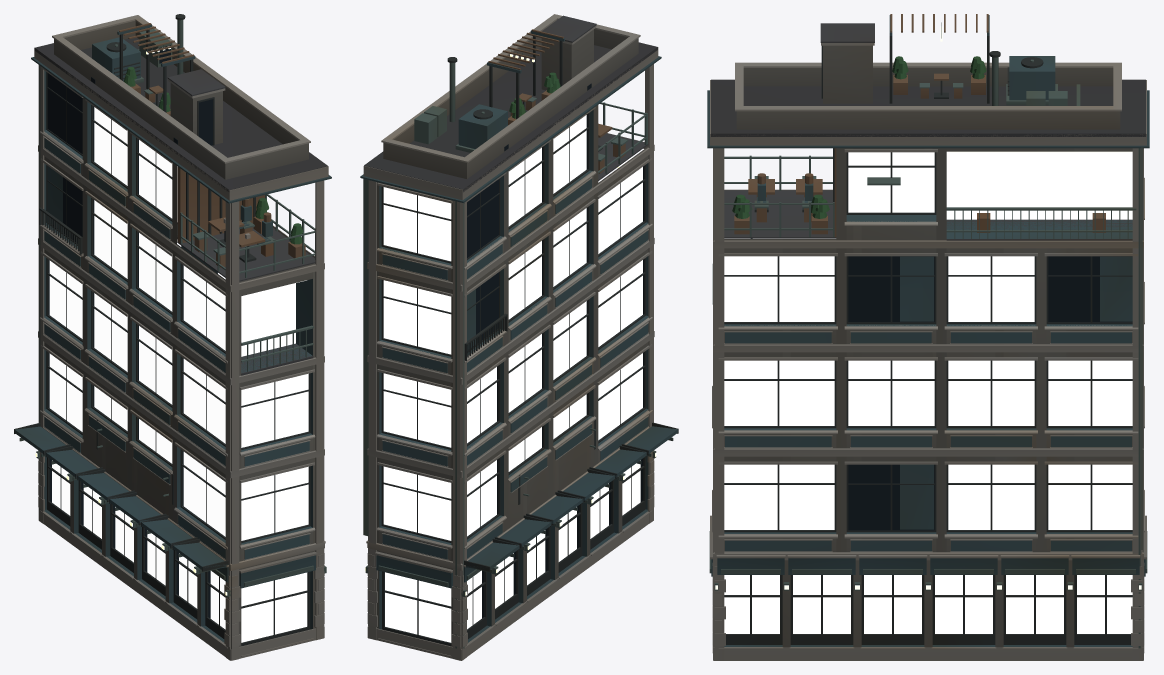
The model's file is tea237.glb.
3 views of the same model, side by side, from view 1: azimuth 30°, elevation 25°; view 2: azimuth 150°, elevation 25°; view 3: azimuth 270°, elevation 25° (orthographic). The views are drawn at different scales.
Visible parts, largest first — view 1: t237-trim, t237-wall2, t237-wall, t237-room1, t237-frame, t237-room2, t237-shop, t237-roof, t237-dark, t237-steel, t237-clay, t237-leaf; view 2: t237-trim, t237-wall2, t237-room2, t237-wall, t237-frame, t237-room1, t237-roof, t237-shop, t237-steel, t237-dark, t237-clay; view 3: t237-trim, t237-room2, t237-wall, t237-wall2, t237-shop, t237-frame, t237-roof, t237-room0, t237-dark, t237-steel, t237-room1, t237-clay (+1 smaller).
Boxes of the visible parts, x1=… form: t237-trim: x1=34, y1=15, x2=328, y2=660; t237-wall2: x1=14, y1=24, x2=331, y2=642; t237-wall: x1=44, y1=20, x2=315, y2=646; t237-room1: x1=94, y1=107, x2=308, y2=540; t237-frame: x1=14, y1=14, x2=310, y2=646; t237-room2: x1=49, y1=140, x2=225, y2=536; t237-shop: x1=52, y1=283, x2=307, y2=642; t237-roof: x1=34, y1=37, x2=327, y2=375; t237-dark: x1=47, y1=45, x2=224, y2=618; t237-steel: x1=19, y1=20, x2=326, y2=597; t237-clay: x1=119, y1=23, x2=305, y2=267; t237-leaf: x1=123, y1=67, x2=303, y2=244; t237-trim: x1=363, y1=14, x2=658, y2=660; t237-wall2: x1=360, y1=30, x2=678, y2=642; t237-room2: x1=383, y1=115, x2=642, y2=540; t237-wall: x1=377, y1=23, x2=648, y2=646; t237-frame: x1=381, y1=36, x2=678, y2=646; t237-room1: x1=383, y1=147, x2=642, y2=471; t237-roof: x1=364, y1=15, x2=657, y2=192; t237-shop: x1=385, y1=460, x2=640, y2=642; t237-steel: x1=363, y1=50, x2=673, y2=648; t237-dark: x1=467, y1=83, x2=643, y2=618; t237-clay: x1=488, y1=29, x2=625, y2=173; t237-trim: x1=710, y1=43, x2=1146, y2=660; t237-room2: x1=724, y1=152, x2=1132, y2=529; t237-wall: x1=724, y1=45, x2=1132, y2=647; t237-wall2: x1=707, y1=15, x2=1149, y2=646; t237-shop: x1=724, y1=151, x2=1132, y2=633; t237-frame: x1=724, y1=36, x2=1132, y2=644; t237-roof: x1=711, y1=23, x2=1145, y2=240; t237-room0: x1=848, y1=360, x2=1034, y2=529; t237-dark: x1=848, y1=256, x2=1132, y2=530; t237-steel: x1=709, y1=22, x2=1147, y2=648; t237-room1: x1=948, y1=256, x2=1034, y2=321; t237-clay: x1=734, y1=14, x2=1105, y2=237.
Bounding box in the file's own units: 4.35 × 17.92 × 11.94.
